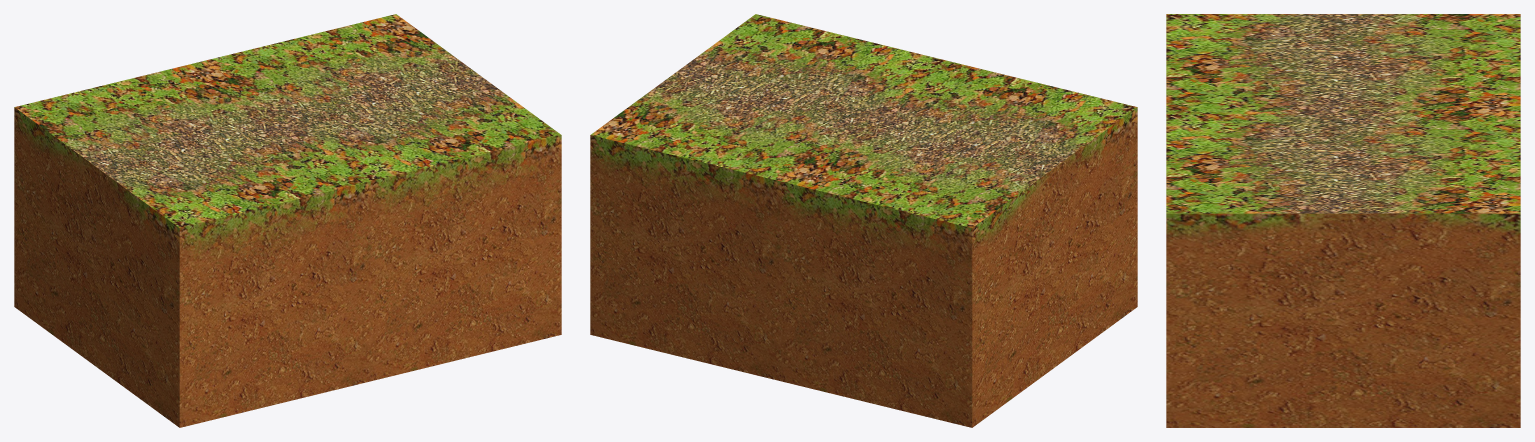
File: Ground-1.fbx
3 views of the same model, side by side, from view 1: azimuth 30°, elevation 25°; view 2: azimuth 150°, elevation 25°; view 3: azimuth 270°, elevation 25° (orthographic). The views are drawn at different scales.
Visible parts, largest first — view 1: pCube1, pCube2; view 2: pCube1, pCube2; view 3: pCube2, pCube1.
Part boxes in pixels (x1=…): pCube1: x1=14, y1=60, x2=370, y2=427; pCube2: x1=205, y1=14, x2=561, y2=381; pCube1: x1=781, y1=60, x2=1137, y2=427; pCube2: x1=590, y1=14, x2=946, y2=381; pCube2: x1=1166, y1=114, x2=1520, y2=427; pCube1: x1=1166, y1=14, x2=1520, y2=113.
Bounding box in the file's own units: 4 × 2 × 3.
